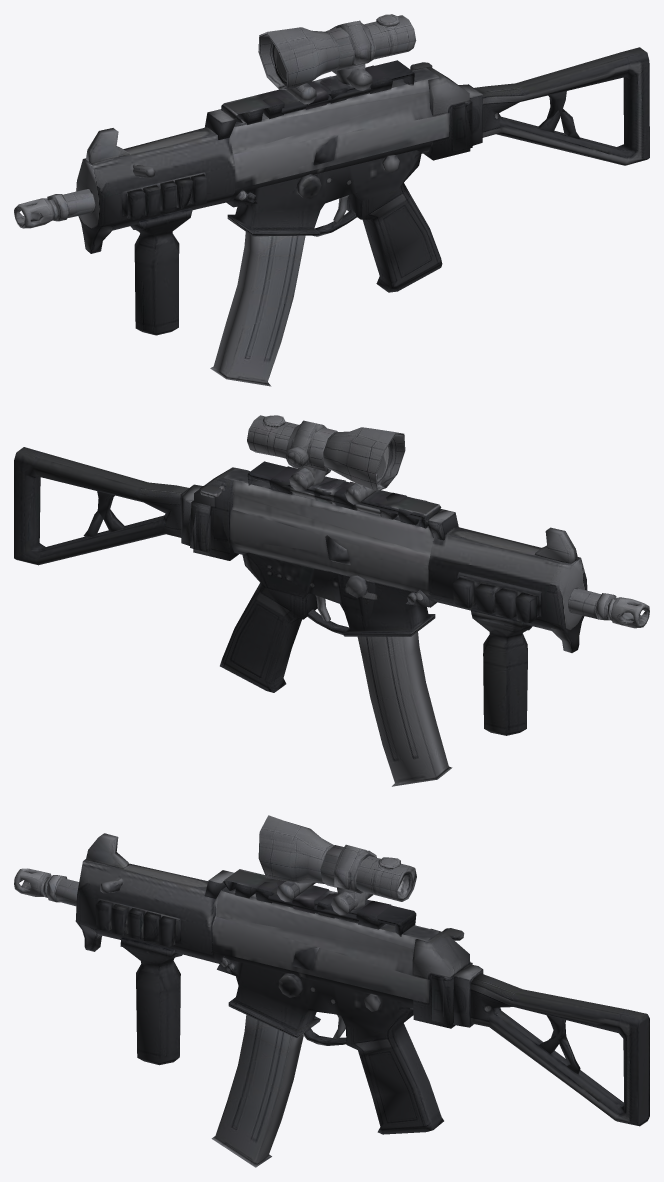
File: smg-Cah4gQeO.glb
3 views of the same model, one above another, from view 1: azimuth 30°, elevation 25°; view 2: azimuth 150°, elevation 25°; view 3: azimuth 330°, elevation 25° (orthographic).
Size of the model in its own units: 1 by 0.5335 by 0.1277.
Materials: 1 (1 with a texture image).
